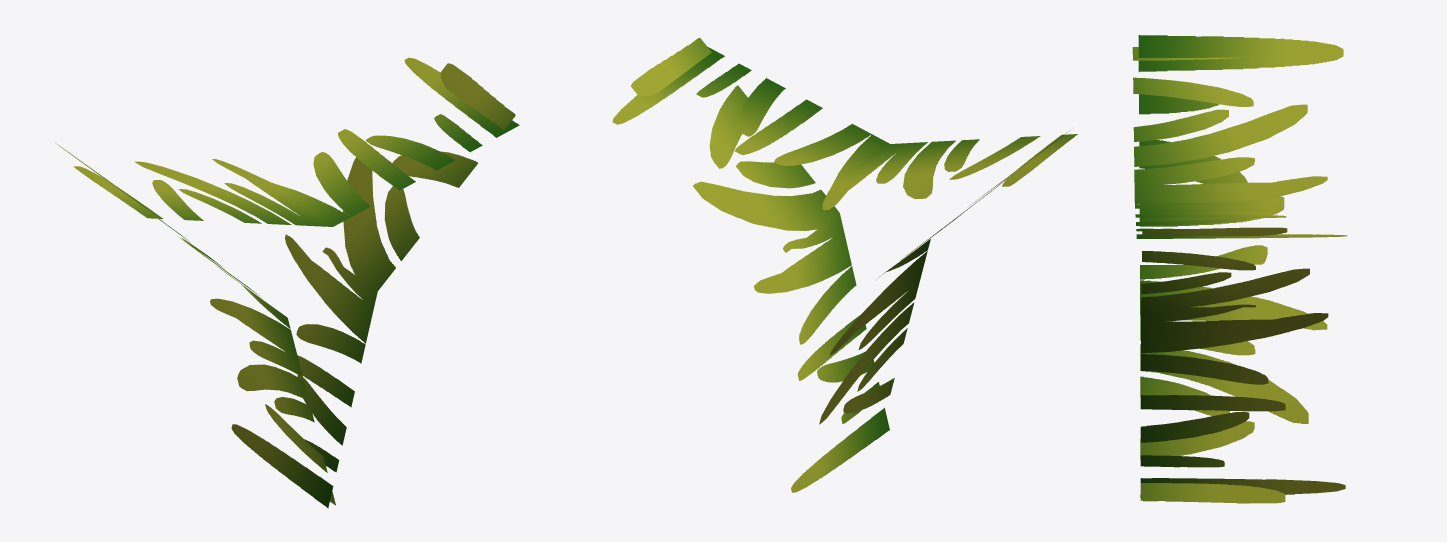
The model's file is grass_04.FBX.
The picture shows the model from 3 angles, left to right: view 1: azimuth 30°, elevation 25°; view 2: azimuth 150°, elevation 25°; view 3: azimuth 270°, elevation 25°; orthographic projection. The views are drawn at different scales.
Visible parts, largest first — view 1: Plane002; view 2: Plane002; view 3: Plane002.
Part boxes in pixels (x1,y1,x2,y2): Plane002: (56,57,519,508); Plane002: (612,38,1077,492); Plane002: (1132,34,1347,503).
Bounding box in the file's own units: 41 × 35.73 × 23.79.
1 material, 1 textured.
